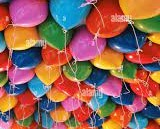Balloon: (86, 1, 129, 39), (70, 27, 107, 62), (50, 1, 91, 30), (10, 1, 48, 28), (40, 21, 69, 49), (118, 1, 160, 20), (6, 25, 37, 50), (95, 47, 122, 70), (63, 61, 90, 80), (37, 62, 59, 83), (101, 78, 122, 96), (29, 78, 46, 96), (112, 107, 131, 123), (50, 107, 69, 120)
